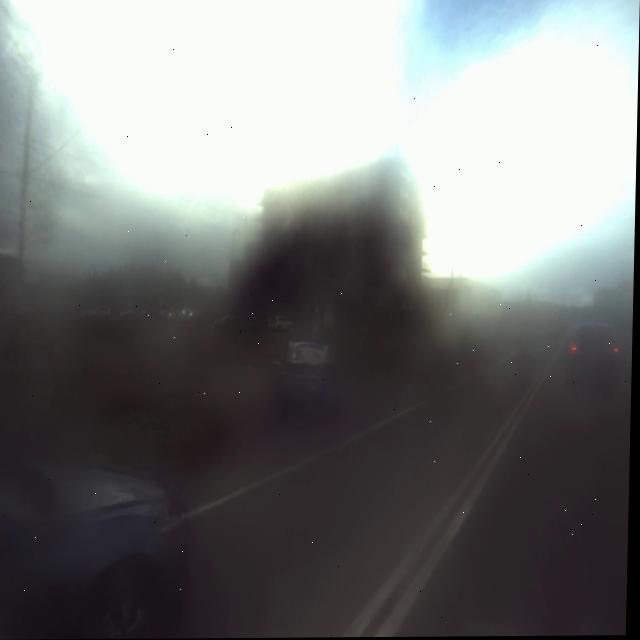car: (278, 327, 349, 417)
